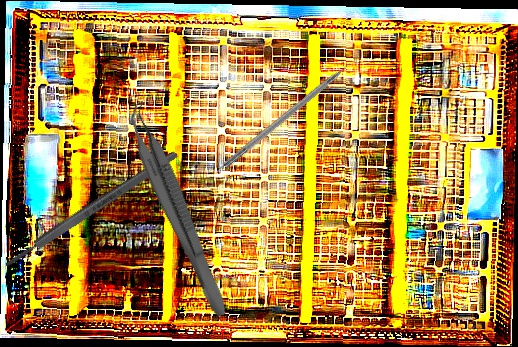Hook Surgical: (221, 51, 366, 170)
Scalpel Handle: (2, 149, 180, 270)
Tissue Forceps: (116, 99, 242, 320)
